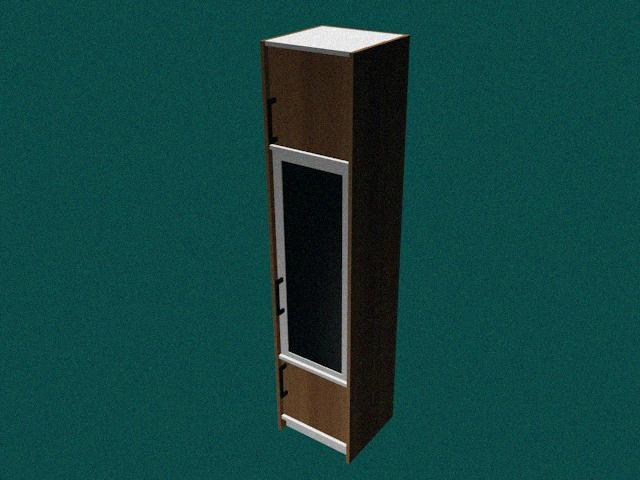cabinet_door: (274, 154, 347, 374), (267, 52, 348, 155), (280, 374, 347, 430)
handle: (271, 274, 289, 319), (264, 95, 279, 146), (274, 360, 292, 401)
